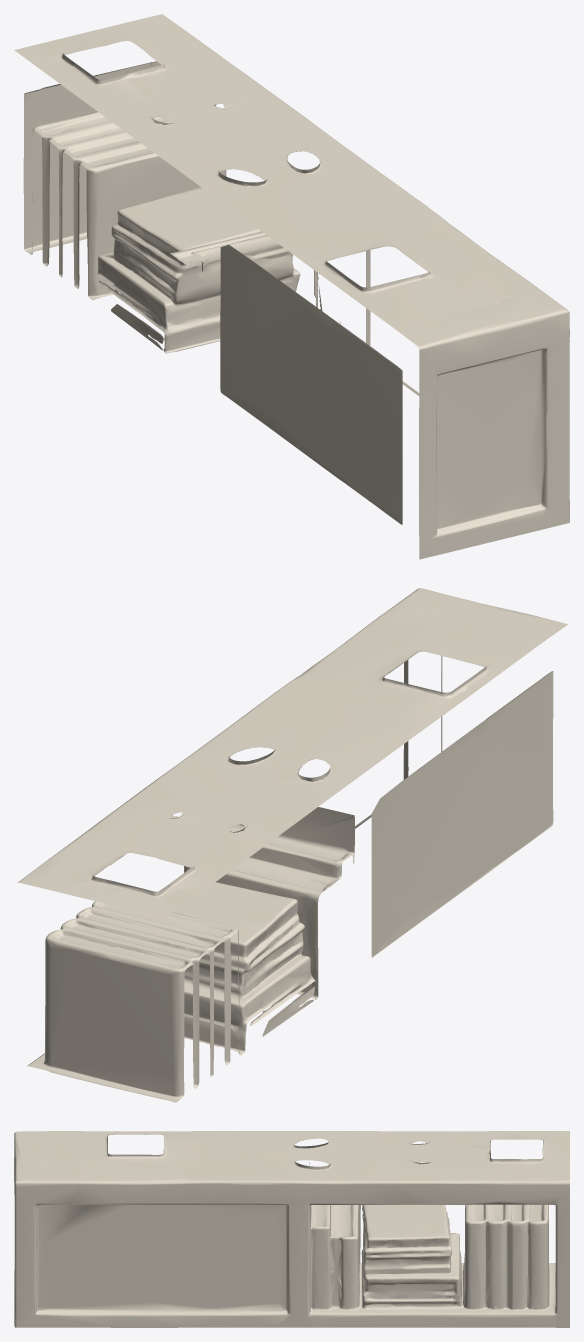
File: bedroom_low_shelf.glb
3 renders of one model, top to bottom at view 1: azimuth 30°, elevation 25°; view 2: azimuth 150°, elevation 25°; view 3: azimuth 270°, elevation 25°, orthographic. The views are drawn at different scales.
Size of the model in its own units: 0.1383 by 0.189 by 0.6374.
